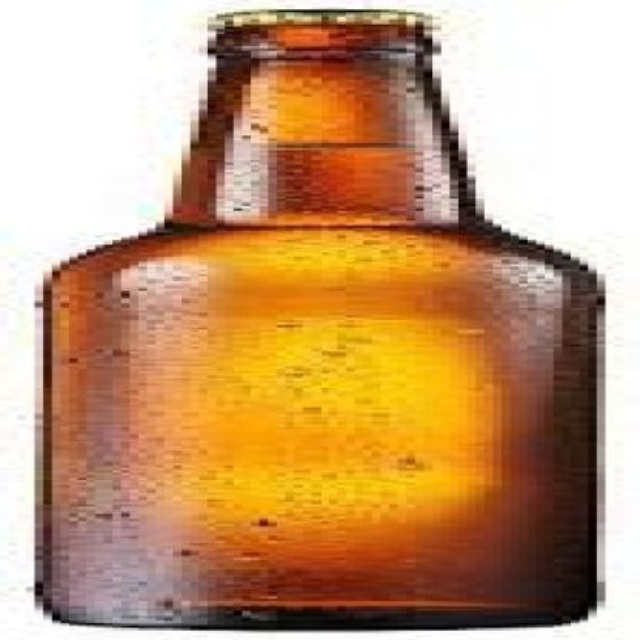trash: (35, 9, 603, 626)
